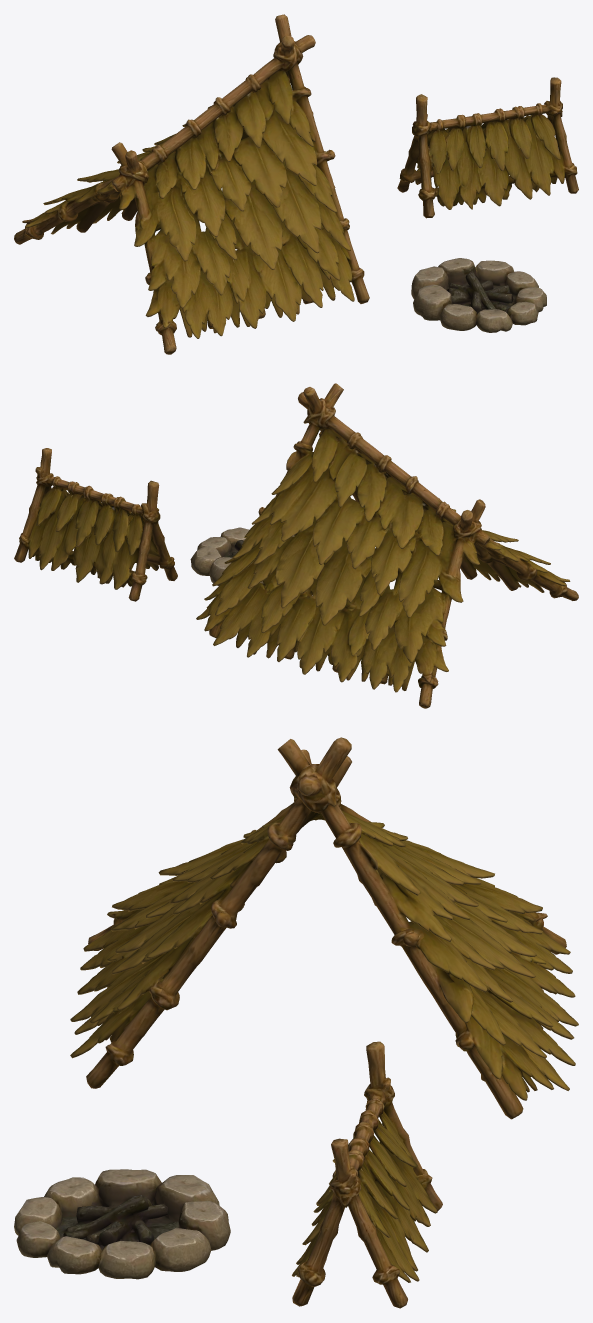
File: Band Camp (South Asian).fbx
The picture shows the model from 3 angles, top to bottom: view 1: azimuth 30°, elevation 25°; view 2: azimuth 150°, elevation 25°; view 3: azimuth 270°, elevation 25°; orthographic projection. The views are drawn at different scales.
Parts seen in each view (by area): view 1: tripo_part_0, tripo_part_1, tripo_part_2; view 2: tripo_part_0, tripo_part_1, tripo_part_2; view 3: tripo_part_0, tripo_part_2, tripo_part_1.
Part boxes in pixels (x1,y1,x2,y2): tripo_part_0: [14, 14, 369, 354]; tripo_part_1: [397, 77, 578, 218]; tripo_part_2: [411, 258, 546, 332]; tripo_part_0: [196, 383, 578, 708]; tripo_part_1: [14, 448, 177, 601]; tripo_part_2: [190, 527, 294, 585]; tripo_part_0: [70, 737, 578, 1119]; tripo_part_2: [14, 1169, 230, 1279]; tripo_part_1: [292, 1041, 442, 1308].
Bounding box in the file's own units: 1 × 0.5248 × 0.6594.
